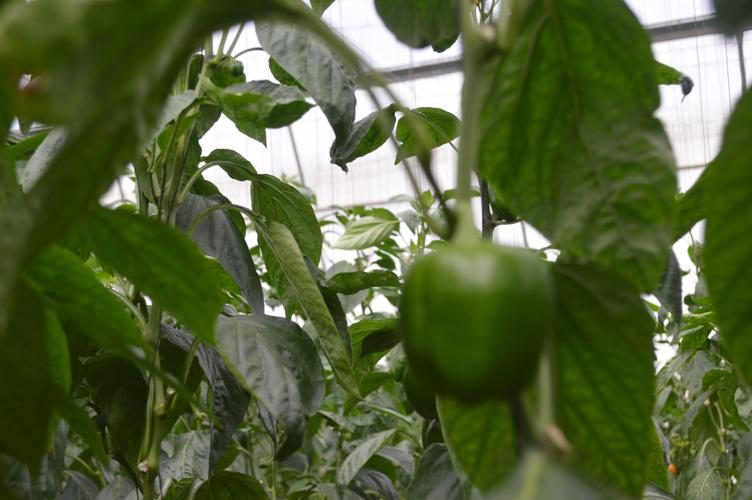BellPepper: (391, 229, 570, 409)
